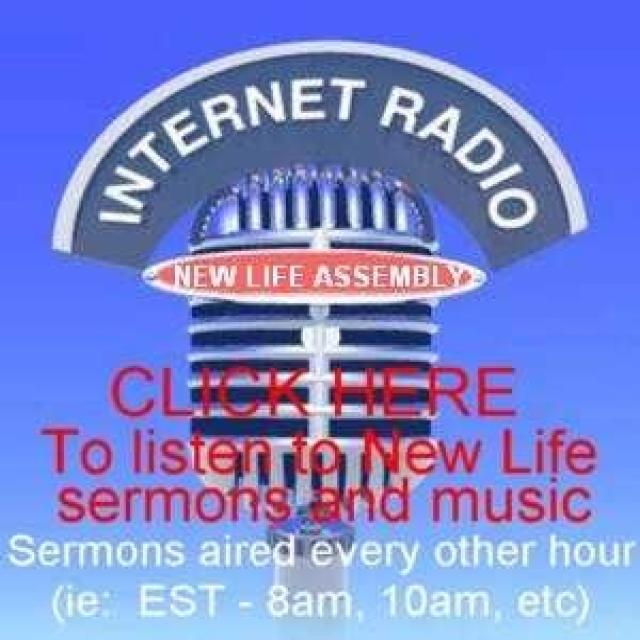microphone: (189, 163, 446, 524)
